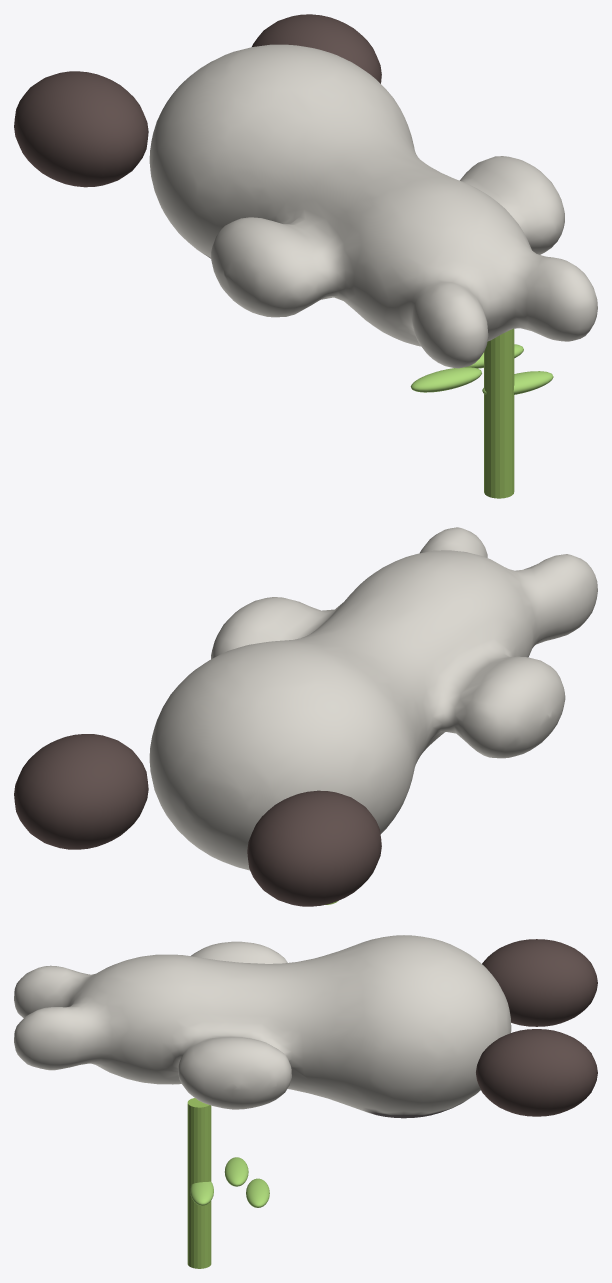
File: panda.glb
The picture shows the model from 3 angles, top to bottom: view 1: azimuth 30°, elevation 25°; view 2: azimuth 150°, elevation 25°; view 3: azimuth 270°, elevation 25°; orthographic projection. The views are drawn at different scales.
Visible parts, largest first — view 1: panda_surface, ear, bamboo, ear.001, leaf, leaf.002; view 2: panda_surface, ear, ear.001; view 3: panda_surface, ear.001, ear, bamboo, leaf, leaf.001, leaf.002.
Boxes of the visible parts, box(x1,y1,x2,y2) form: panda_surface: box(149, 44, 597, 368); ear: box(14, 71, 148, 187); bamboo: box(484, 328, 514, 498); ear.001: box(252, 14, 381, 83); leaf: box(410, 367, 481, 392); leaf.002: box(482, 371, 553, 394); panda_surface: box(149, 527, 597, 870); ear: box(247, 790, 381, 906); ear.001: box(14, 734, 148, 849); panda_surface: box(14, 935, 511, 1118); ear.001: box(476, 1029, 597, 1116); ear: box(482, 939, 597, 1026); bamboo: box(187, 1098, 211, 1268); leaf: box(224, 1157, 248, 1186); leaf.001: box(246, 1178, 269, 1207); leaf.002: box(190, 1181, 213, 1205).
Size of the model in its own units: 1.18 by 1.18 by 2.2.
